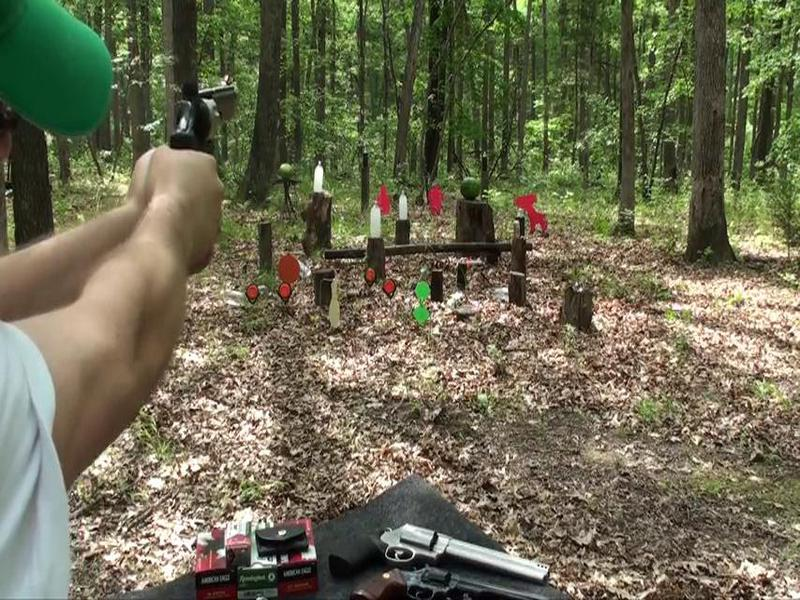Revolver: (157, 70, 251, 185)
